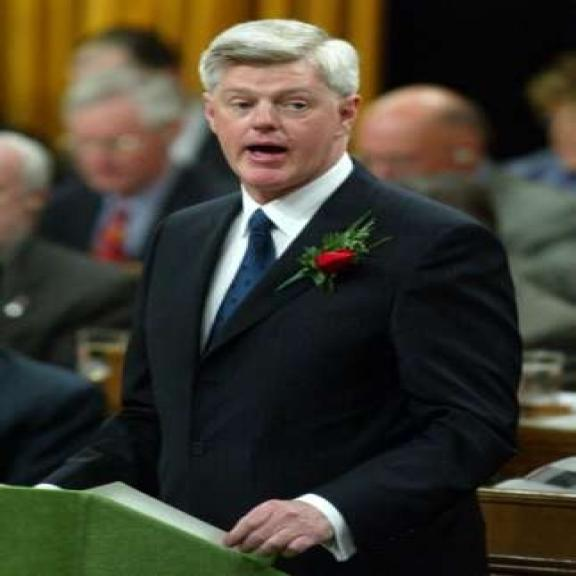face: (188, 54, 362, 184), (63, 102, 175, 197), (353, 104, 471, 184)
